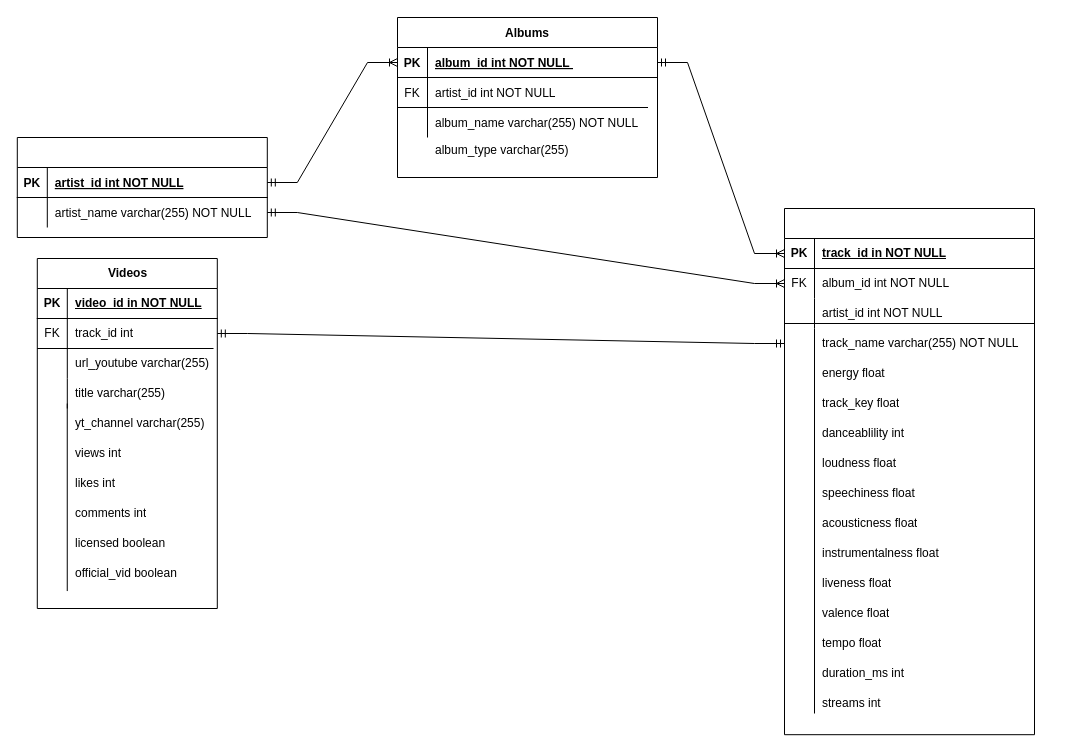
The diagram is 1083 pixels wide and 753 high, and some of its shapes have lost their labels. Here are the shapes that lost their labels. From the top down, the box of each, then its label:
(16, 136, 267, 238): Artists
(784, 208, 1034, 735): Tracks
